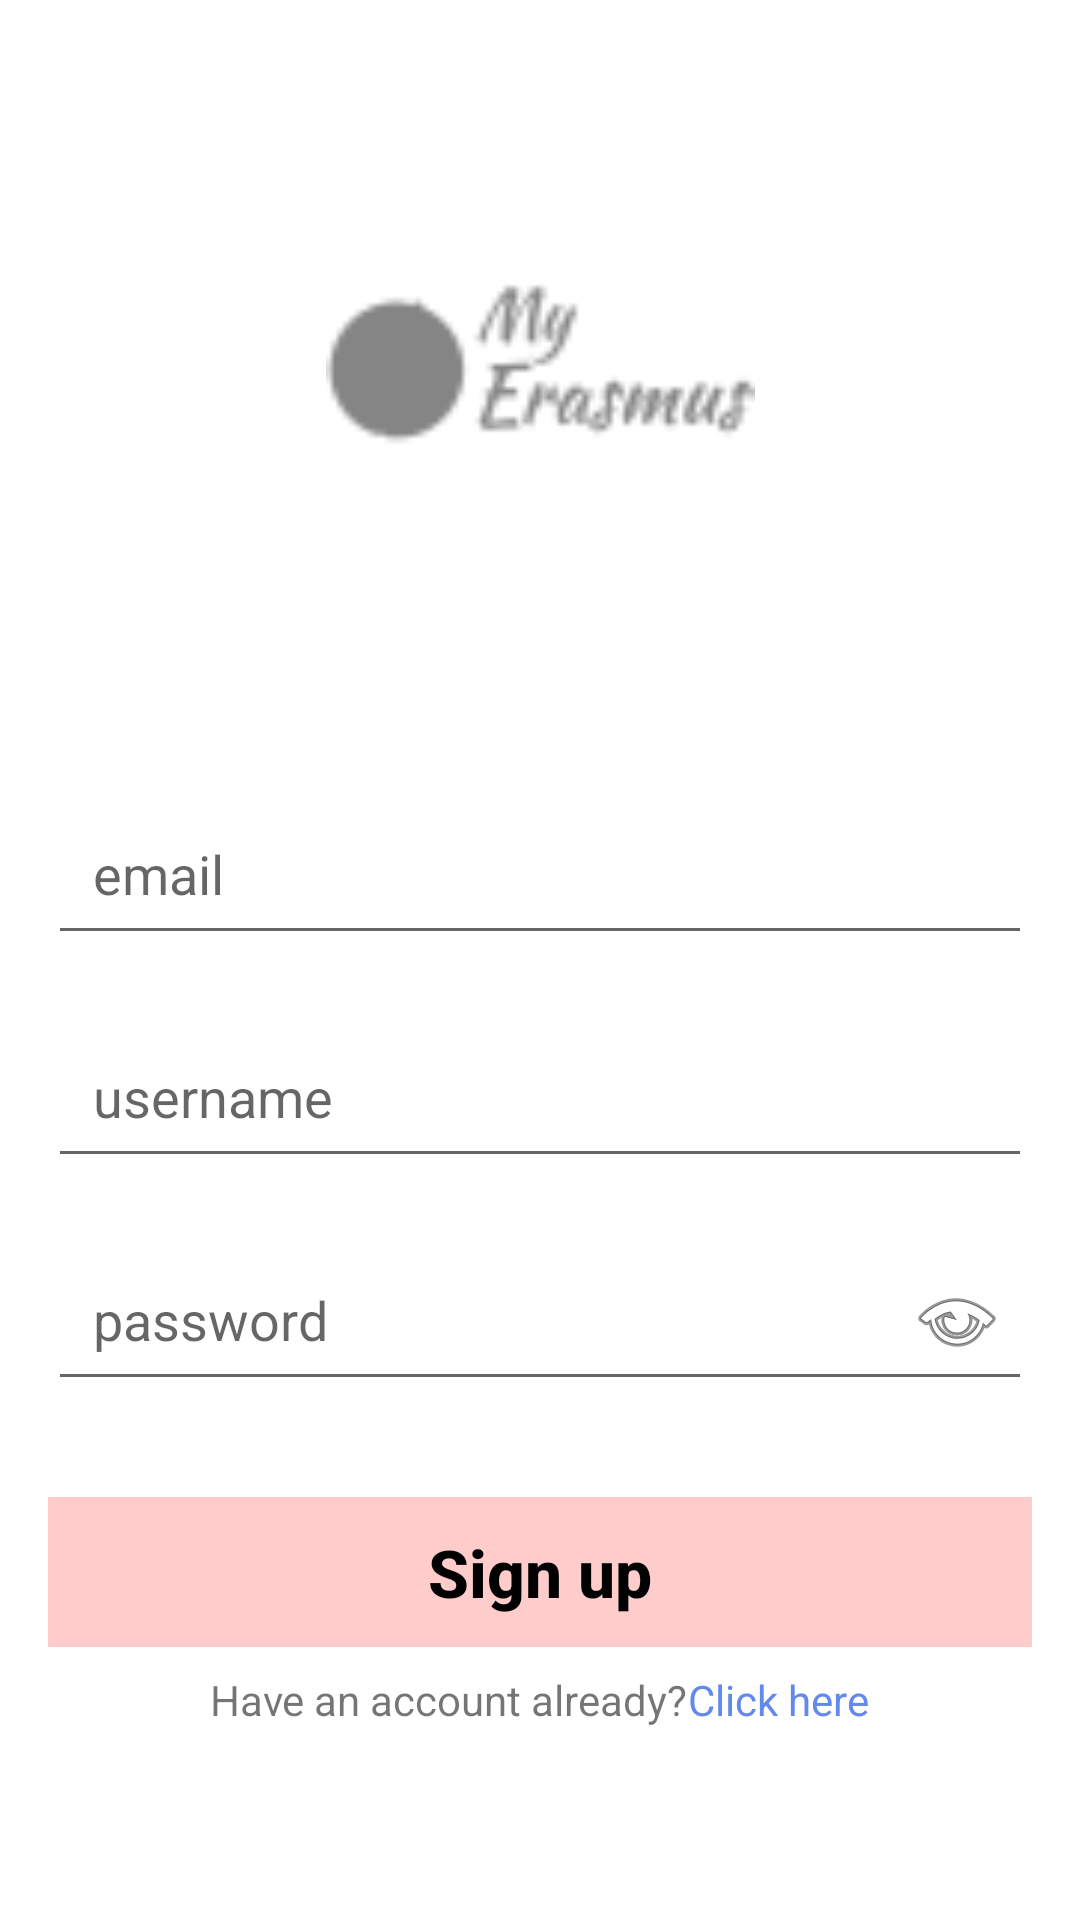

Named icons in this screenshot (1080×1920) and their bounding boxes, (x1, y1, x2, y2):
view: (918, 1298, 996, 1347)
